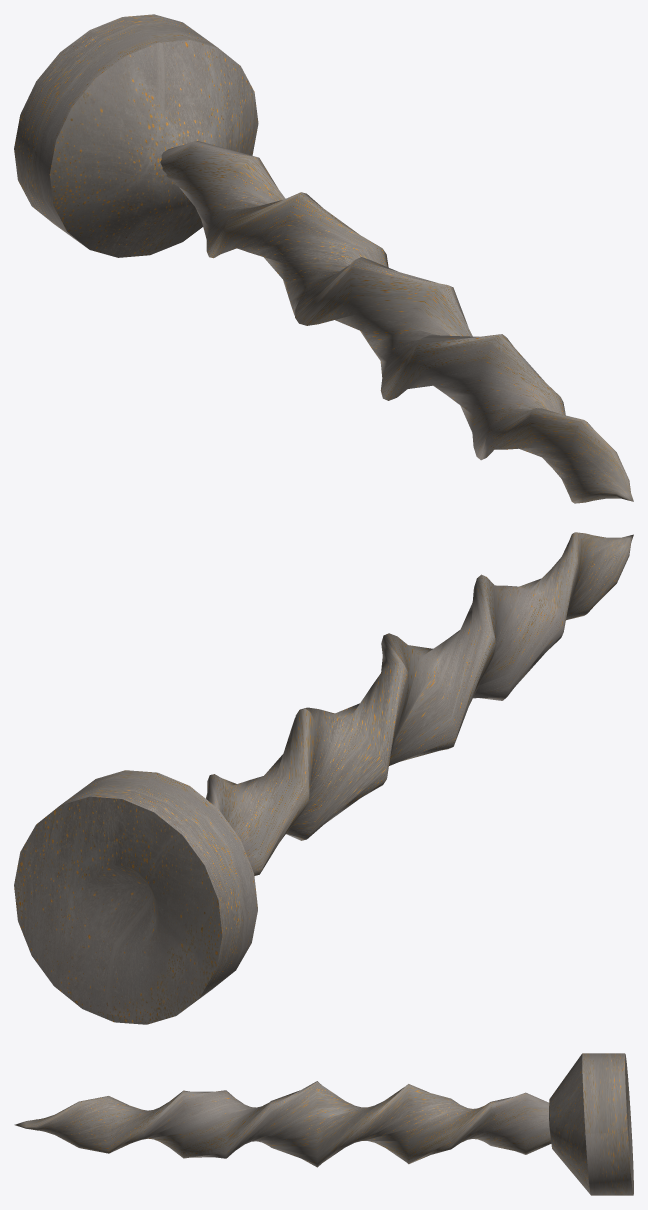
File: Screw_Textured.fbx
3 renders of one model, top to bottom at view 1: azimuth 30°, elevation 25°; view 2: azimuth 150°, elevation 25°; view 3: azimuth 270°, elevation 25°, orthographic. The views are drawn at different scales.
Parts seen in each view (by area): view 1: pSphere1, pCylinder1; view 2: pCylinder1, pSphere1; view 3: pSphere1, pCylinder1.
Boxes of the visible parts, x1,y1,x2,y2 form: pSphere1: (160,141,633,503); pCylinder1: (14,14,258,257); pCylinder1: (14,770,257,1024); pSphere1: (206,532,633,875); pSphere1: (14,1081,551,1167); pCylinder1: (549,1053,633,1195).
Size of the model in its own units: 0.000715 by 0.000714 by 0.00308.
Materials: 1 (1 with a texture image).
